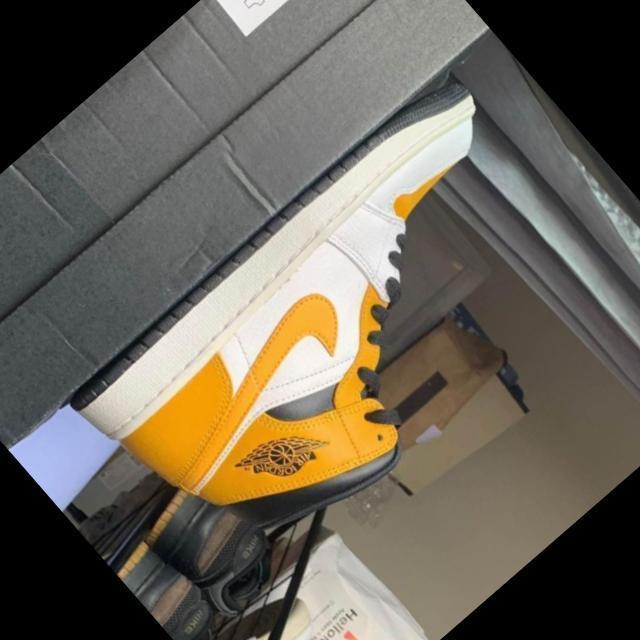nike original jordan 1: (57, 59, 626, 604)
